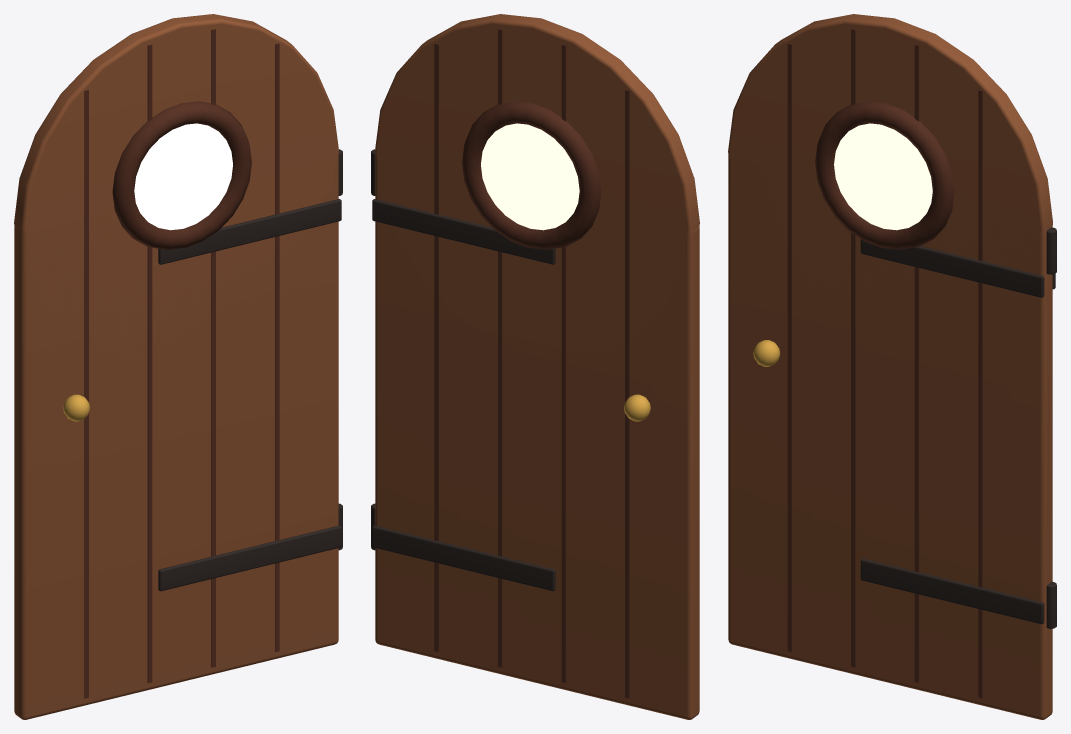
Rendered from door-arched.glb.
The picture shows the model from 3 angles, left to right: view 1: azimuth 30°, elevation 25°; view 2: azimuth 150°, elevation 25°; view 3: azimuth 330°, elevation 25°; orthographic projection.
Visible parts, largest first — view 1: door-arched; view 2: door-arched; view 3: door-arched.
Part boxes in pixels (x1,y1,x2,y2): door-arched: (14, 14, 342, 719); door-arched: (371, 14, 699, 719); door-arched: (728, 14, 1056, 719).
Bounding box in the file's own units: 1.1 × 2.14 × 0.22.
